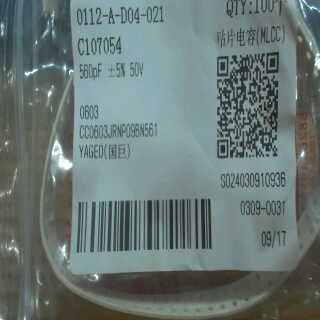560pF: (77, 60, 102, 81)
